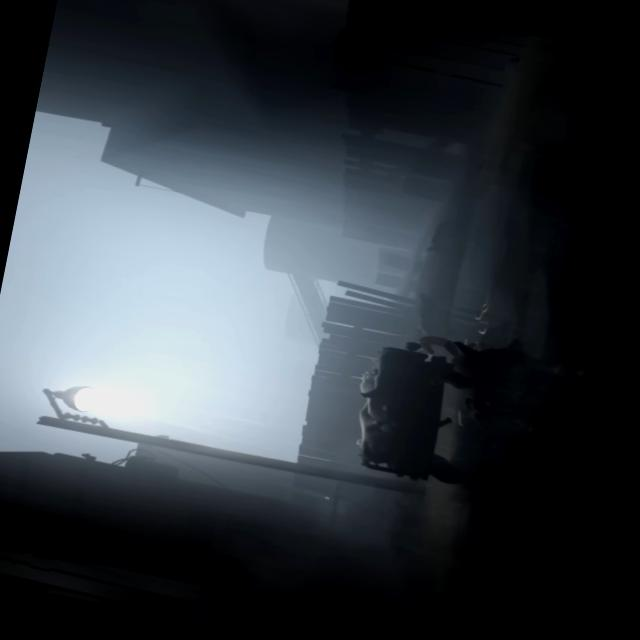boy: (402, 328, 482, 370)
